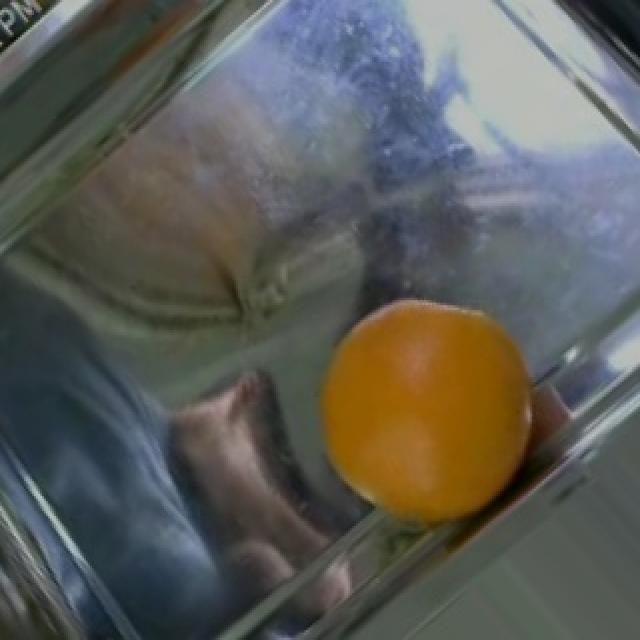Fruit: (302, 298, 556, 548)
